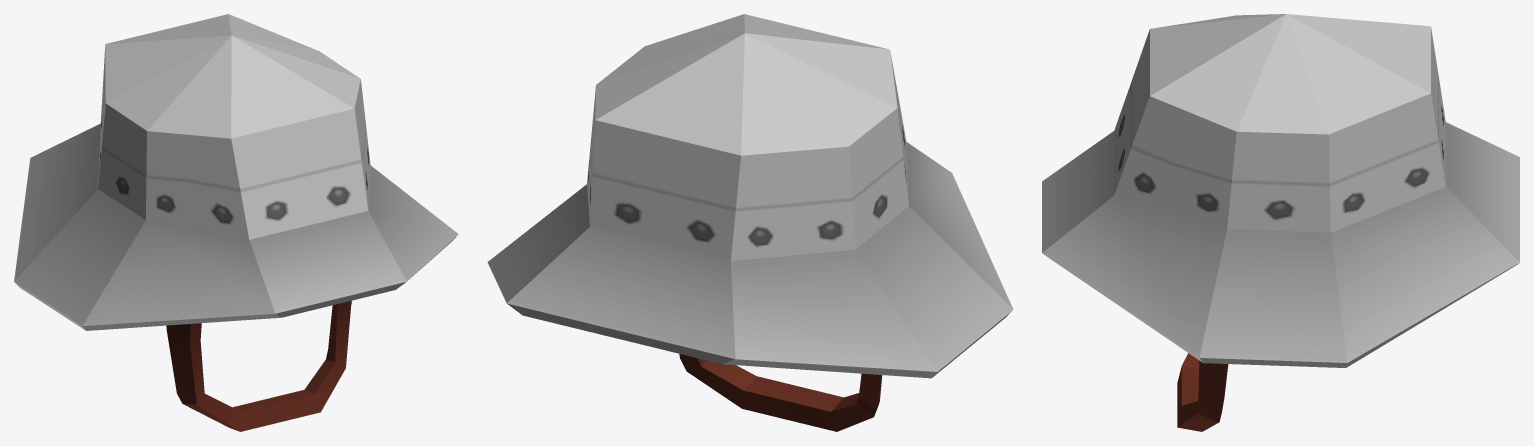
File: KettleHat_M.glb
3 views of the same model, side by side, from view 1: azimuth 30°, elevation 25°; view 2: azimuth 150°, elevation 25°; view 3: azimuth 270°, elevation 25° (orthographic). The views are drawn at different scales.
Parts seen in each view (by area): view 1: KettleHat_M; view 2: KettleHat_M; view 3: KettleHat_M.
Part boxes in pixels (x1,y1,x2,y2): KettleHat_M: [14, 14, 458, 431]; KettleHat_M: [487, 14, 1013, 431]; KettleHat_M: [1042, 14, 1519, 431].
Bounding box in the file's own units: 0.4284 × 0.3817 × 0.4174.
Materials: 1 (1 with a texture image).
